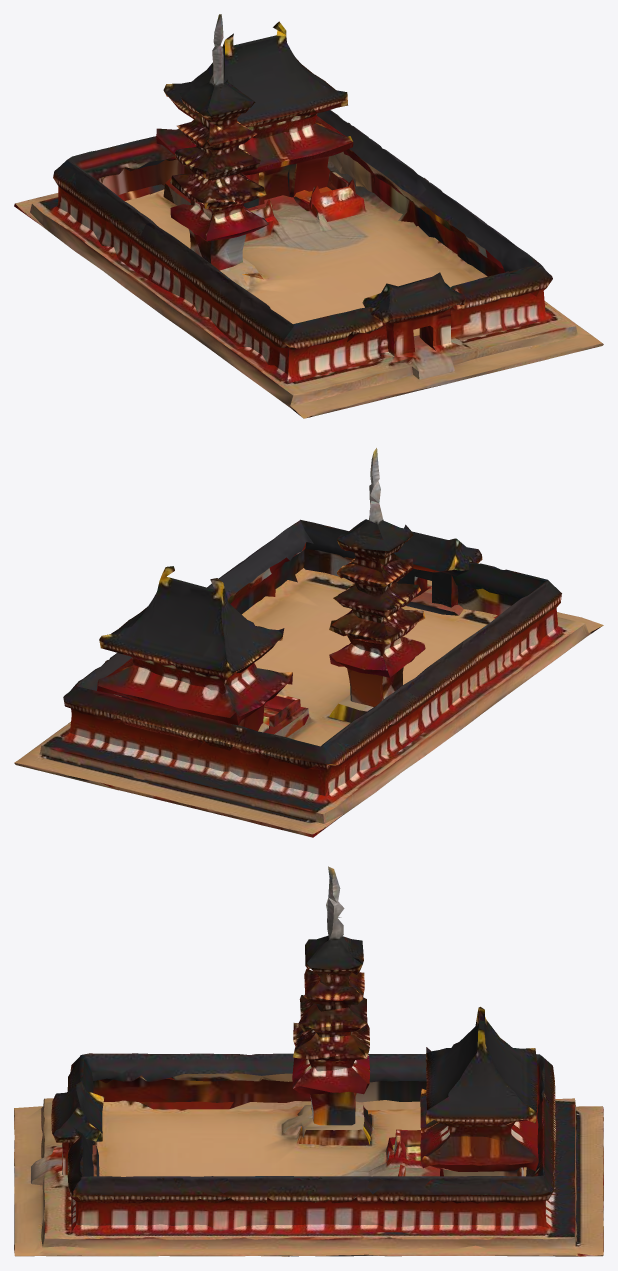
The model's file is shitennoji.glb.
3 views of the same model, one above another, from view 1: azimuth 30°, elevation 25°; view 2: azimuth 150°, elevation 25°; view 3: azimuth 270°, elevation 25° (orthographic).
Parts seen in each view (by area): view 1: logan-textured.obj; view 2: logan-textured.obj; view 3: logan-textured.obj.
Boxes of the visible parts, x1,y1,x2,y2 form: logan-textured.obj: [14, 14, 603, 418]; logan-textured.obj: [14, 448, 603, 837]; logan-textured.obj: [14, 866, 603, 1256].
Size of the model in its own units: 0.5975 by 0.5201 by 1.
1 material, 1 textured.
